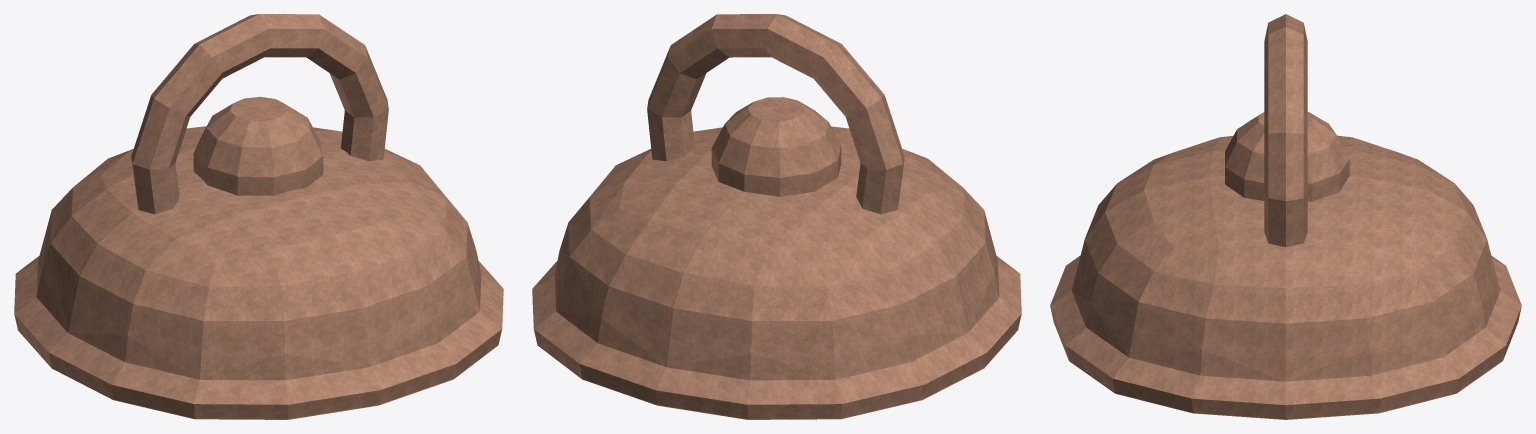
Rendered from Bell1.glb.
3 views of the same model, side by side, from view 1: azimuth 30°, elevation 25°; view 2: azimuth 150°, elevation 25°; view 3: azimuth 270°, elevation 25° (orthographic). The views are drawn at different scales.
Parts seen in each view (by area): view 1: Mesh_Mesh_head_geo.001_lambert2SG.001; view 2: Mesh_Mesh_head_geo.001_lambert2SG.001; view 3: Mesh_Mesh_head_geo.001_lambert2SG.001.
Part boxes in pixels (x1,y1,x2,y2): Mesh_Mesh_head_geo.001_lambert2SG.001: (14, 14, 503, 419); Mesh_Mesh_head_geo.001_lambert2SG.001: (532, 14, 1021, 419); Mesh_Mesh_head_geo.001_lambert2SG.001: (1050, 14, 1521, 419).
Bounding box in the file's own units: 15.88 × 10.97 × 15.89.
1 material, 1 textured.
